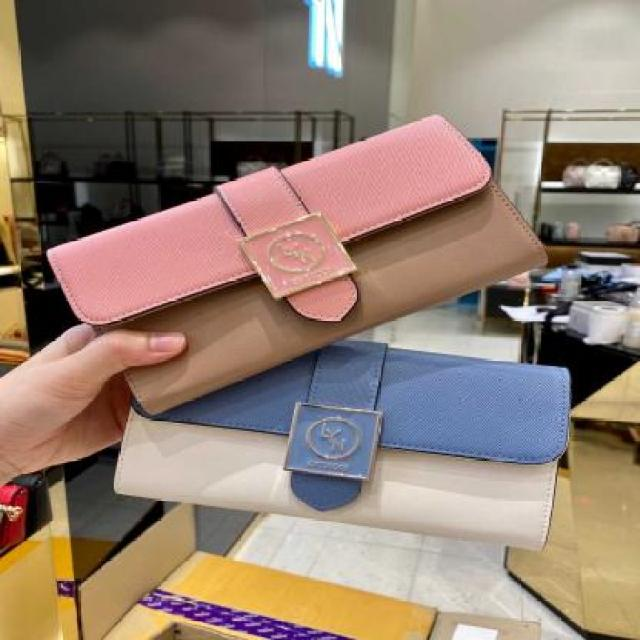Bag: (14, 68, 552, 432), (90, 272, 608, 566)
